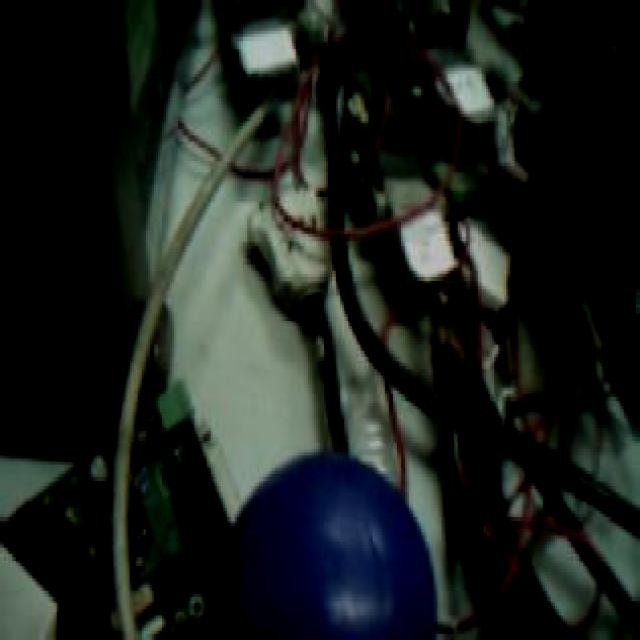BallPurple: (215, 449, 438, 640)
